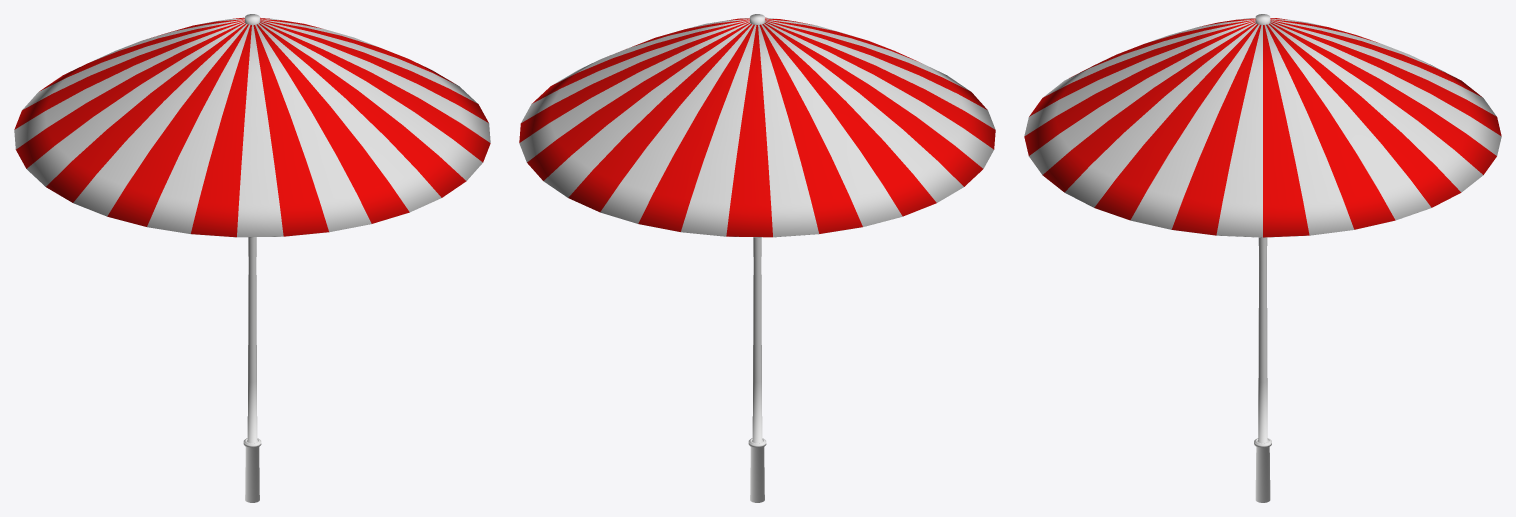
File: Umbrella.fbx
3 renders of one model, left to right at view 1: azimuth 30°, elevation 25°; view 2: azimuth 150°, elevation 25°; view 3: azimuth 270°, elevation 25°, orthographic.
Parts seen in each view (by area): view 1: Cylinder; view 2: Cylinder; view 3: Cylinder.
Boxes of the visible parts, <box> form: Cylinder: <box>14,14,490,502</box>; Cylinder: <box>519,14,995,502</box>; Cylinder: <box>1024,14,1501,502</box>.
Bounding box in the file's own units: 412 × 460 × 412.
